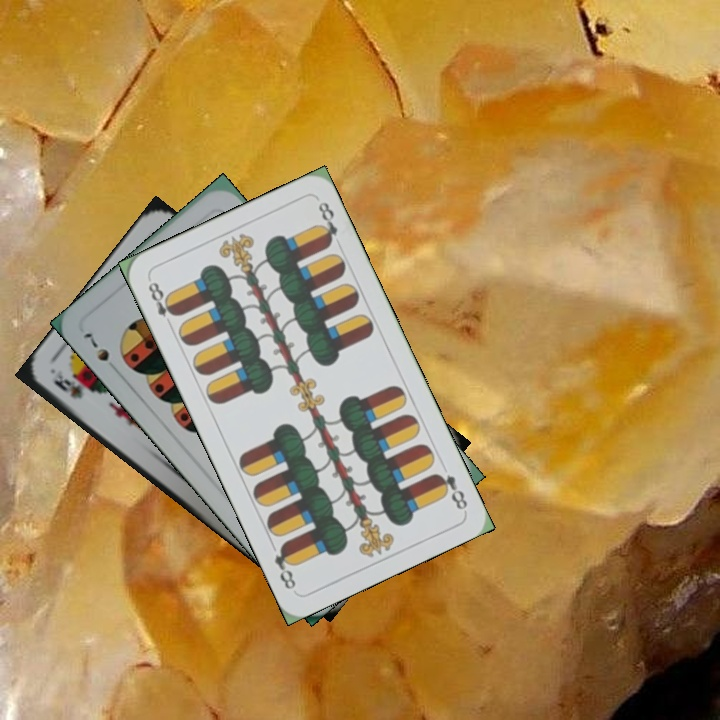E8: (144, 275, 180, 331), (431, 469, 470, 513)
S7: (79, 328, 113, 365)
SK: (49, 366, 86, 402)
